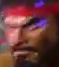ryu: (0, 0, 56, 66)
